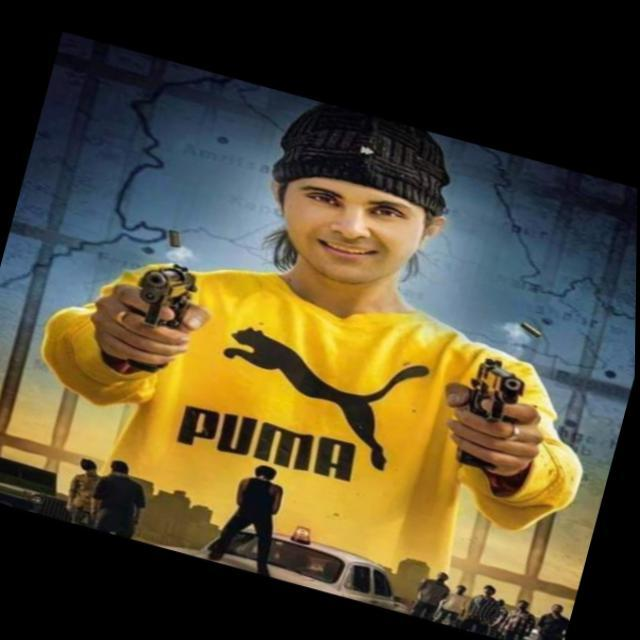weapon: (111, 250, 208, 384), (448, 348, 538, 478)
